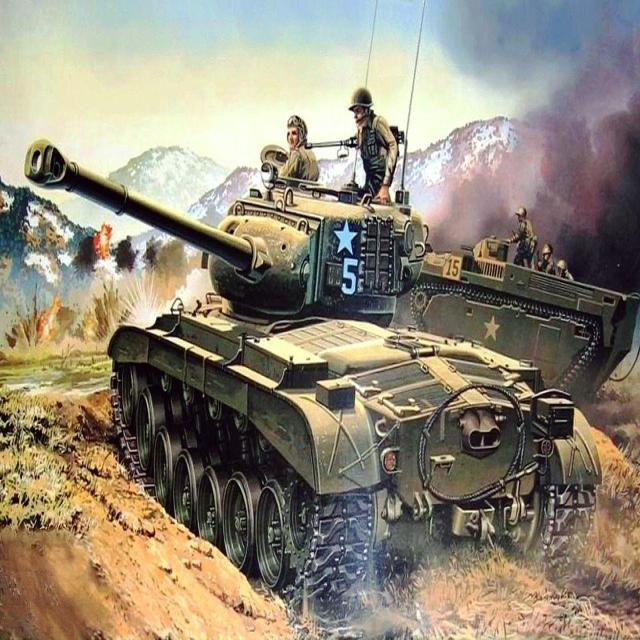Tanks: (126, 164, 548, 611), (427, 214, 573, 403)
